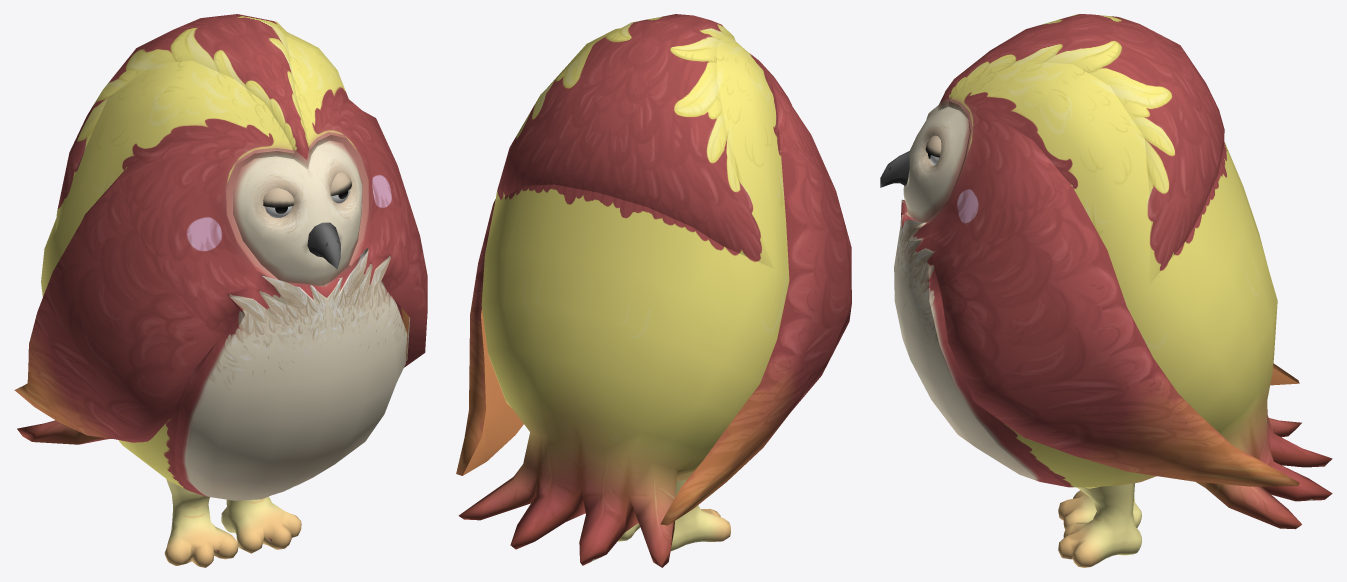
The model's file is M_POUI.FBX.
3 renders of one model, left to right at view 1: azimuth 30°, elevation 25°; view 2: azimuth 150°, elevation 25°; view 3: azimuth 270°, elevation 25°, orthographic. The views are drawn at different scales.
Visible parts, largest first — view 1: Poui_MDL; view 2: Poui_MDL; view 3: Poui_MDL.
Boxes of the visible parts, x1,y1,x2,y2 form: Poui_MDL: [14, 14, 427, 567]; Poui_MDL: [456, 14, 851, 567]; Poui_MDL: [880, 14, 1332, 567].
Size of the model in its own units: 64.98 by 77.97 by 99.3.
